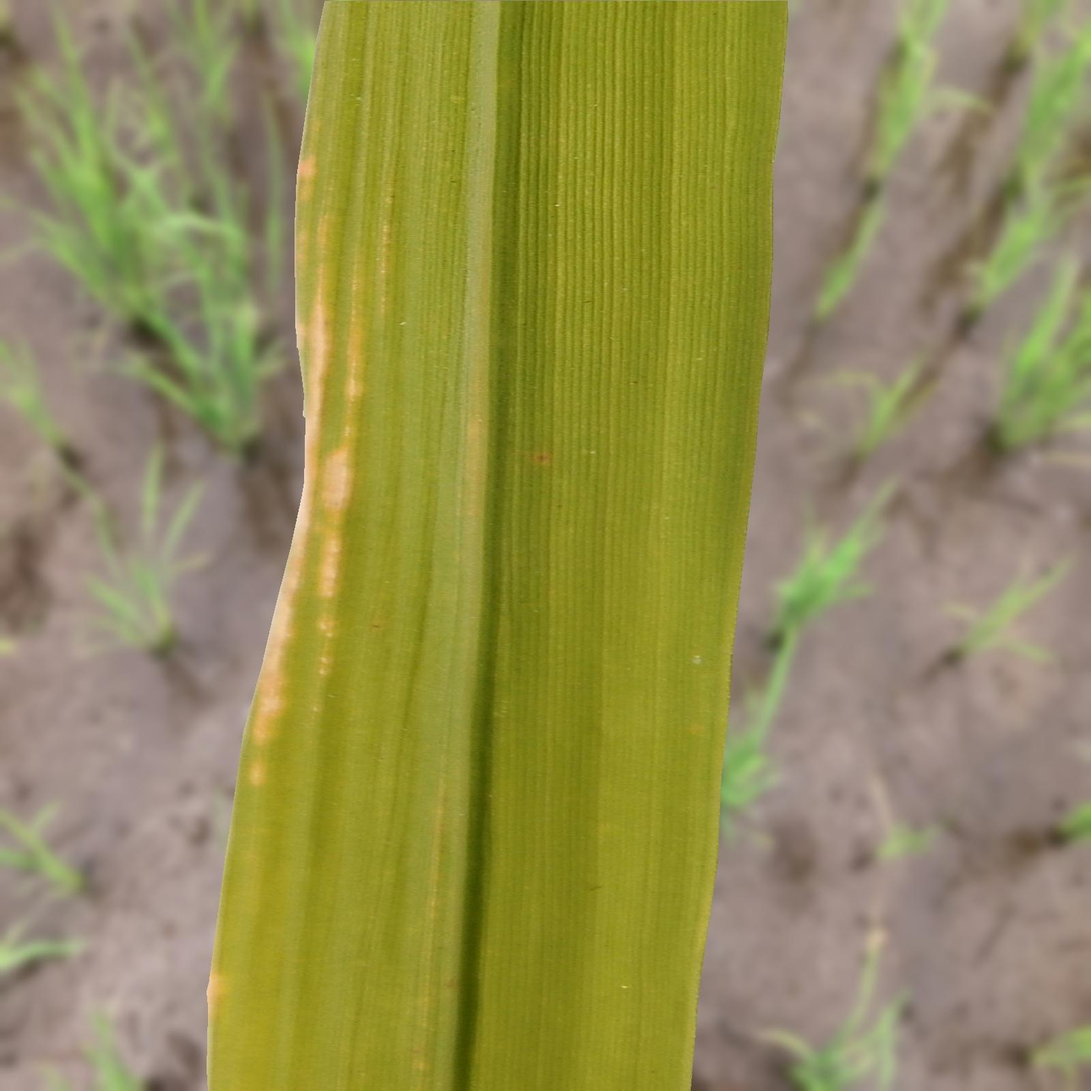BLS: (245, 182, 365, 795)
LEAF: (207, 1, 788, 1090)
